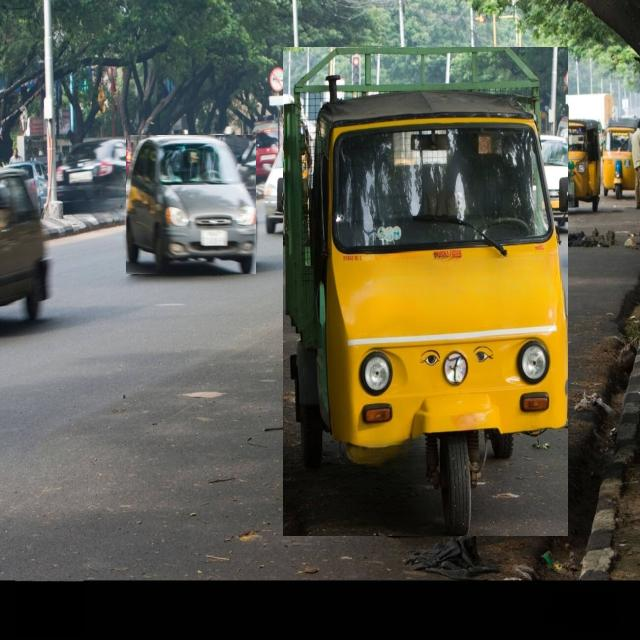autorickshaw: (568, 119, 601, 212), (601, 119, 637, 199)
car: (126, 136, 256, 274), (264, 136, 311, 233)
truck: (284, 47, 568, 536)
